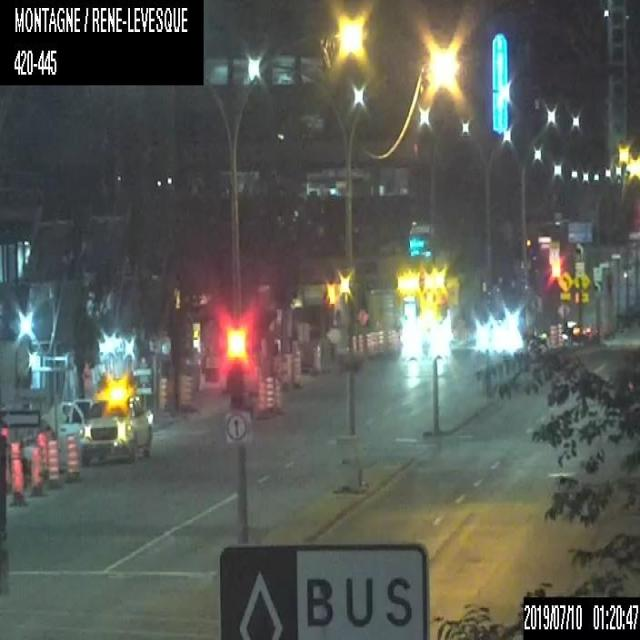construction: (11, 439, 24, 508), (64, 432, 82, 481), (48, 436, 59, 484), (156, 376, 168, 419), (31, 448, 41, 497), (179, 372, 190, 411), (256, 379, 264, 417), (265, 377, 273, 411), (274, 378, 282, 409), (358, 333, 364, 354), (371, 330, 377, 350), (351, 334, 356, 354), (365, 330, 370, 350)
vehicle: (58, 391, 117, 464), (98, 396, 154, 458)
